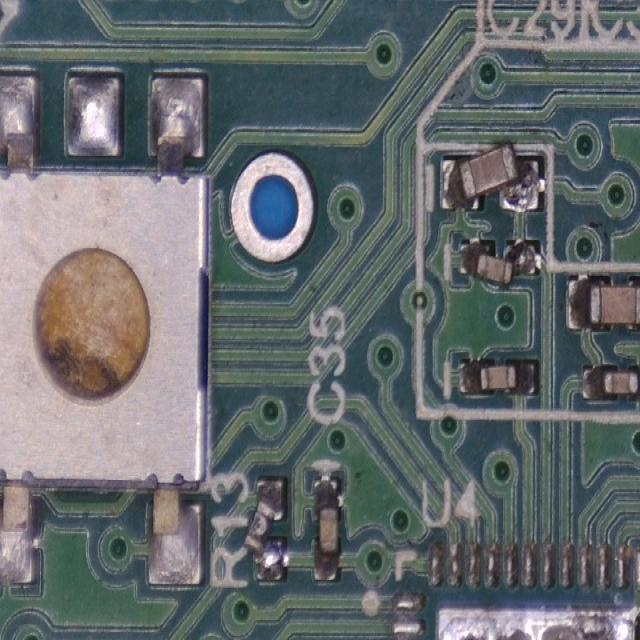Incorrect_installation: (440, 142, 539, 210), (244, 479, 285, 582), (460, 244, 536, 285)
